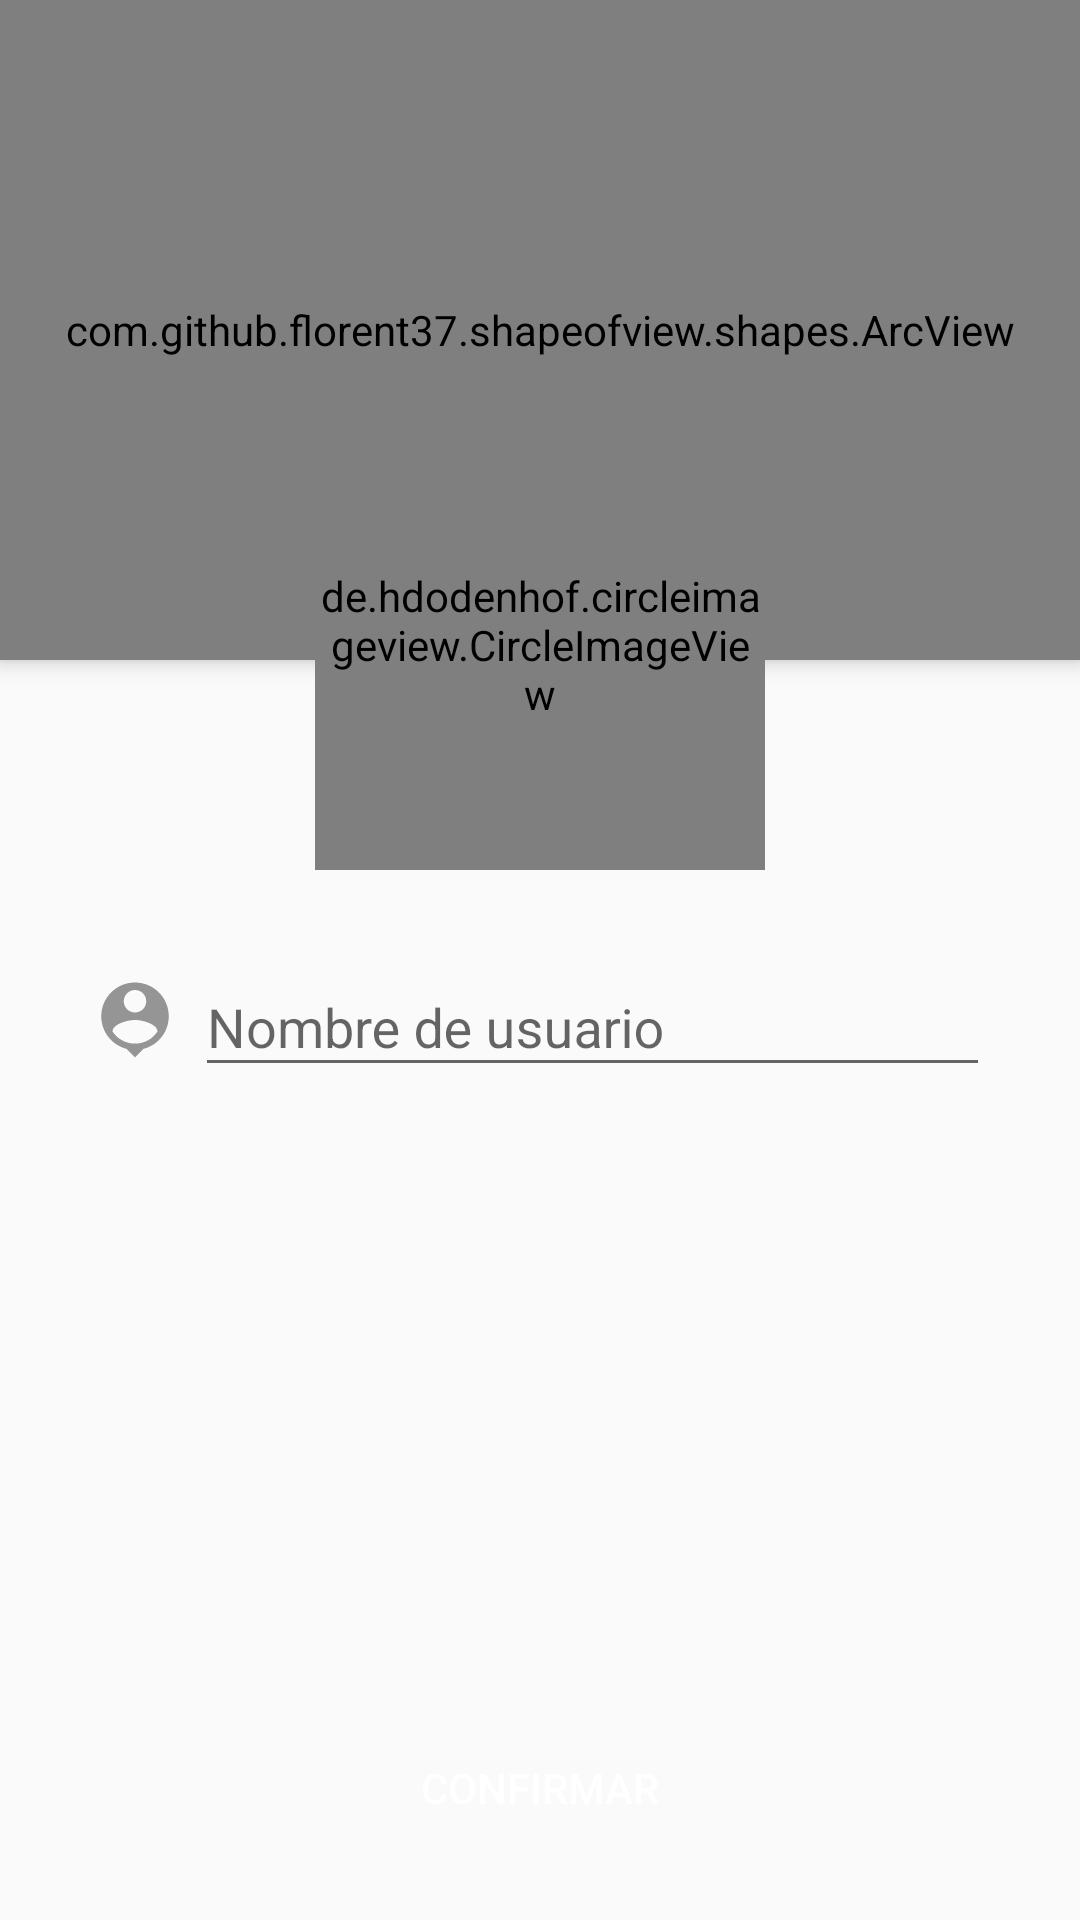

Locate icon controls on the screen. Image size 1080px×1920px, boxes as BBox(x1, y1, x2, y2).
person pin: BBox(101, 982, 169, 1057)
